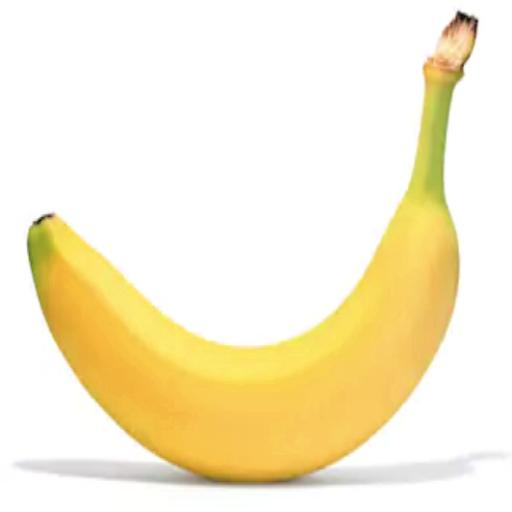banana: (27, 14, 475, 482)
